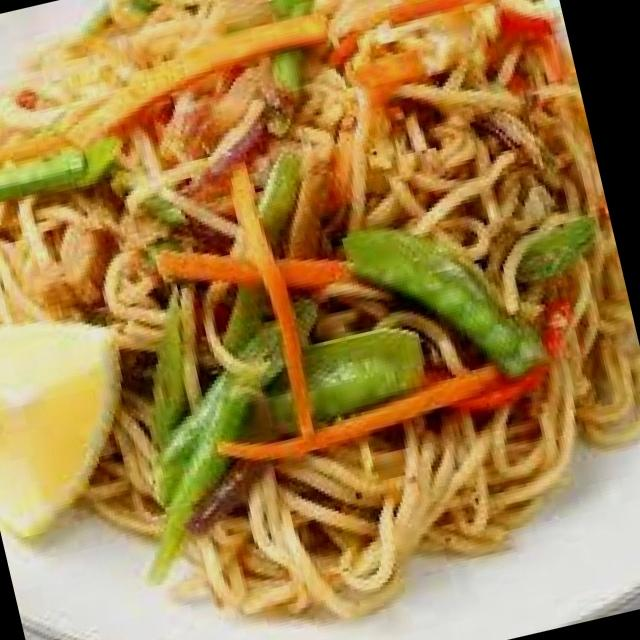pancit bihon: (0, 0, 639, 612)
